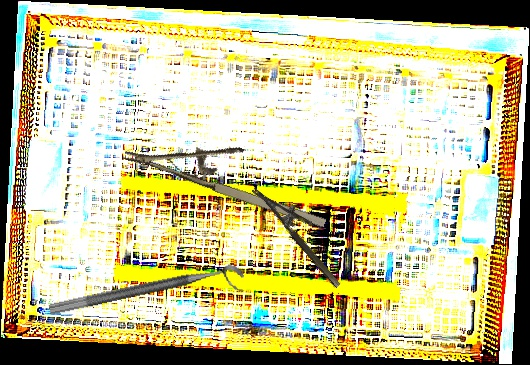Fixation Ring: (48, 261, 247, 333)
Needle Holder: (122, 109, 340, 235), (251, 173, 355, 290)
